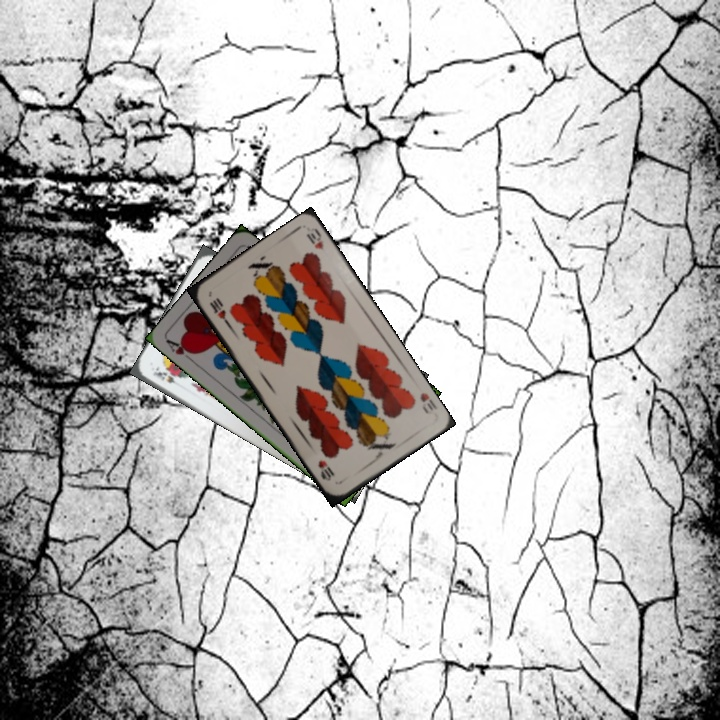H10: (205, 294, 233, 329), (416, 388, 439, 416)
HA: (163, 335, 199, 366)
SK: (149, 362, 185, 391)
